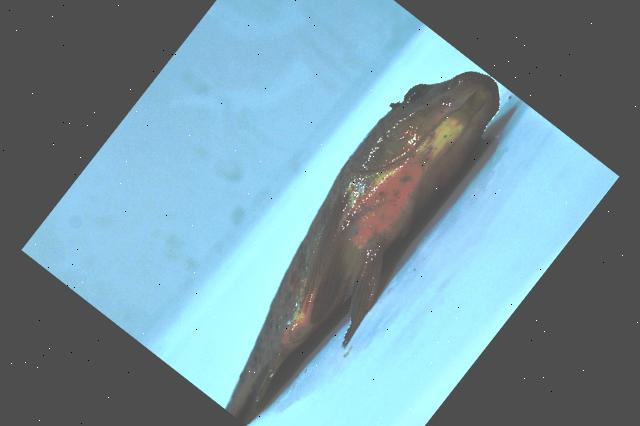Columnaris Disease: (226, 71, 500, 424)
